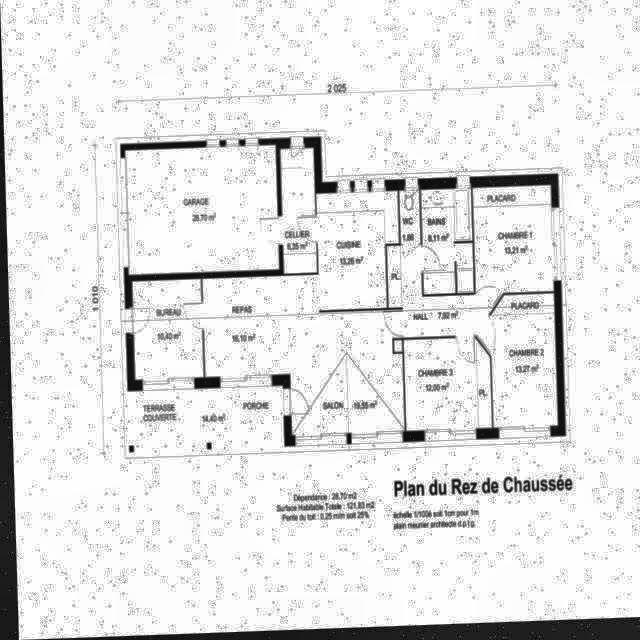room: (197, 194, 404, 440), (123, 146, 283, 276), (473, 298, 555, 432), (470, 189, 552, 318), (384, 246, 488, 342), (400, 338, 490, 434), (122, 280, 203, 381), (418, 192, 472, 298), (279, 150, 317, 276), (397, 193, 419, 248)
